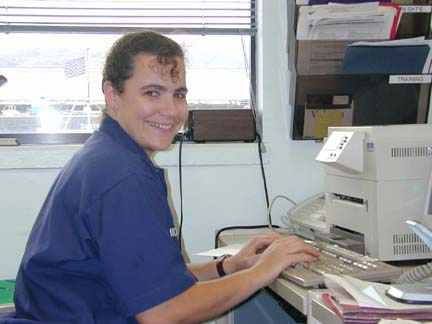person: (13, 32, 323, 324)
